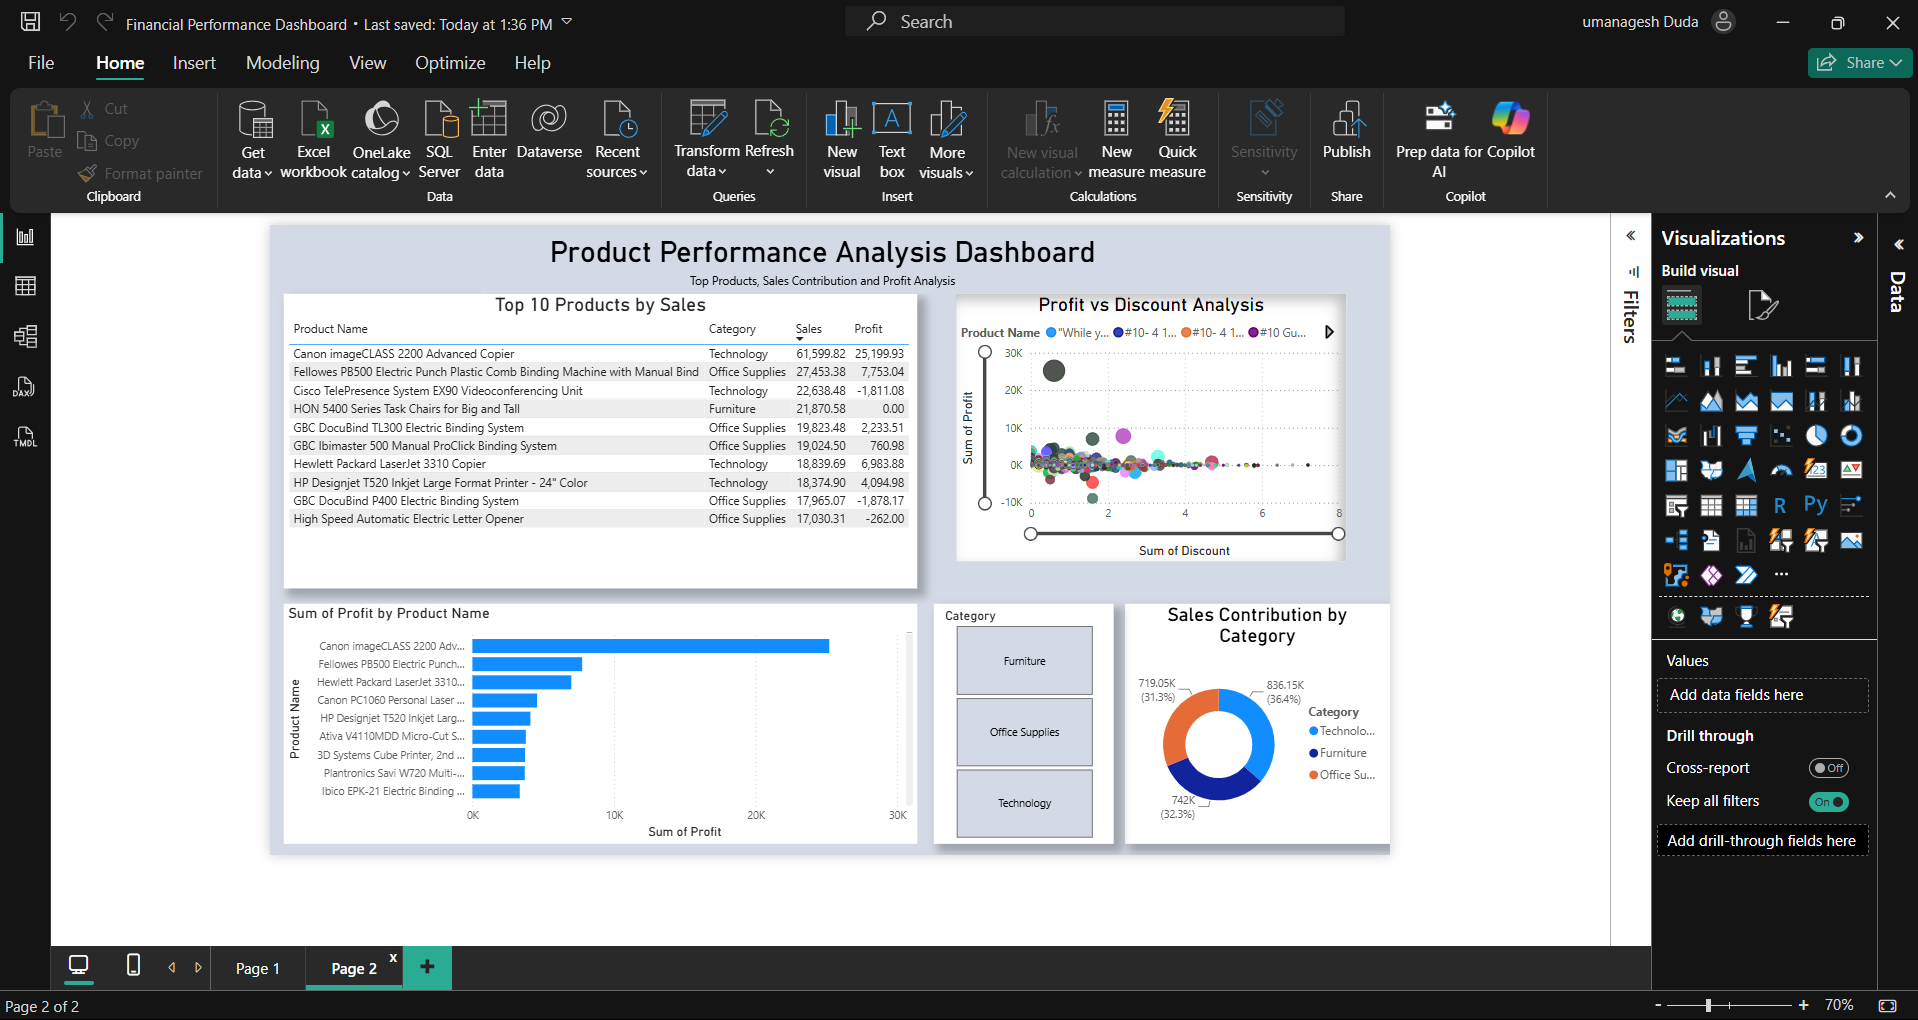

What the dashboard file says about the page in this screenshot:
{"tool":"powerbi","page":{"name":"Page 2","canvas":[1280,720],"ordinal":1},"visuals":[{"type":"tableEx","title":"Top 10 Products by Sales","fields":{"Values":["Sample - Superstore.Product Name","Sample - Superstore.Category","Sum(Sample - Superstore.Sales)","Sum(Sample - Superstore.Profit)"]},"box":[15.7,78.6,724.3,337.1],"z":0},{"type":"textbox","title":"Product Performance Analysis Dashboard","box":[241.4,11.4,780,67.1],"z":1000},{"type":"donutChart","title":"Sales Contribution by Category","fields":{"Category":["Sample - Superstore.Category"],"Y":["Sum(Sample - Superstore.Sales)"]},"box":[977.1,432.9,302.9,274.3],"z":2000},{"type":"clusteredBarChart","fields":{"Category":["Sample - Superstore.Product Name"],"Y":["Sum(Sample - Superstore.Profit)"]},"box":[15.7,432.9,724.3,274.3],"z":3000},{"type":"slicer","fields":{"Values":["Sample - Superstore.Category"]},"box":[758.6,432.9,205.7,274.3],"z":4000},{"type":"scatterChart","title":"Profit vs Discount Analysis","fields":{"X":["Sum(Sample - Superstore.Discount)"],"Y":["Sum(Sample - Superstore.Profit)"],"Size":["Sum(Sample - Superstore.Sales)"],"Series":["Sample - Superstore.Product Name"]},"box":[784.3,78.6,445.7,305.7],"z":5000}]}

Visuals, with their boxes on the page's 1280x720 design canvas (x1, y1, x2, y2). These are canvas units, not pixel positions in the 1918x1020 screenshot, which may show the page scaled, cropped or inside an application window:
"Top 10 Products by Sales" tableEx: (16,79,740,416)
"Product Performance Analysis Dashboard" textbox: (241,11,1021,78)
"Sales Contribution by Category" donutChart: (977,433,1280,707)
clusteredBarChart - Sample - Superstore.Product Name x Sum(Sample - Superstore.Profit): (16,433,740,707)
slicer - Sample - Superstore.Category: (759,433,964,707)
"Profit vs Discount Analysis" scatterChart: (784,79,1230,384)
